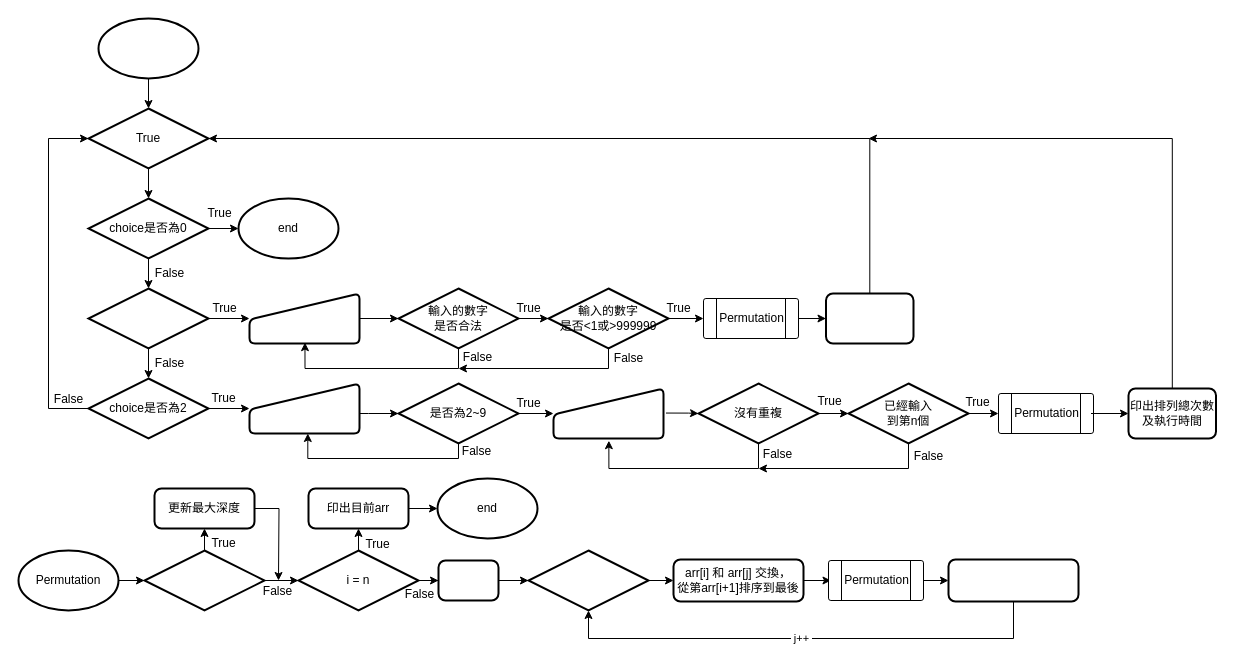
This 1234x664 diagram has some shape labels left out. The centre of each missing label's shape, as x and y in pixels:
choice是否為1: [148,318]
i = j: [468,580]
j <= n: [588,580]
印出排列總次數及遞迴深度: [869,318]
從第arr[i+1]排序到最後 ，arr[i] 和 arr[j] 交換: [1013,580]
目前深度 大於最大深度: [204,580]
程式開始: [148,48]
輸入想排列幾個: [304,408]
輸入想排列的數字: [304,318]
輸入要排列的數字: [608,413]
